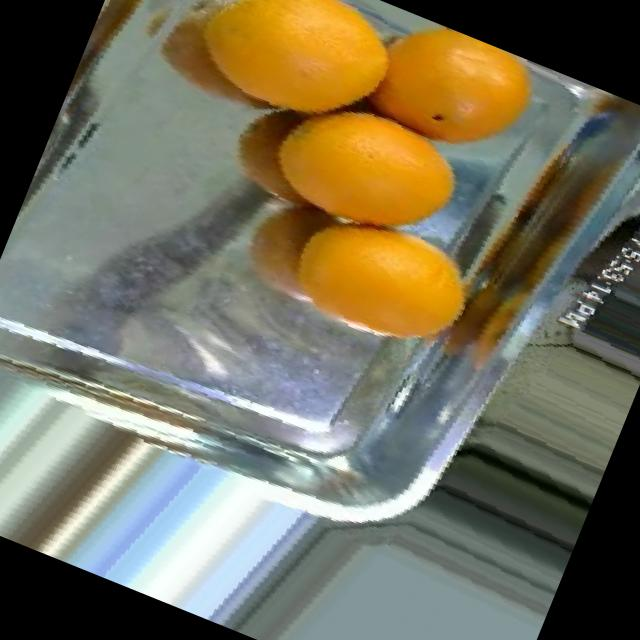Fruit: (263, 180, 506, 387)
